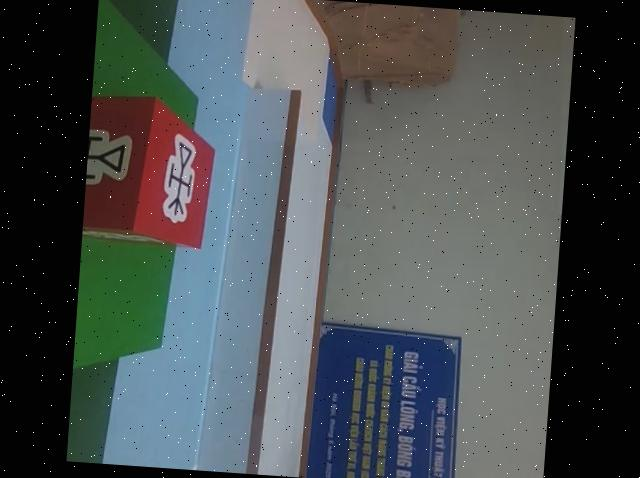R2 Real: (81, 90, 219, 249)
